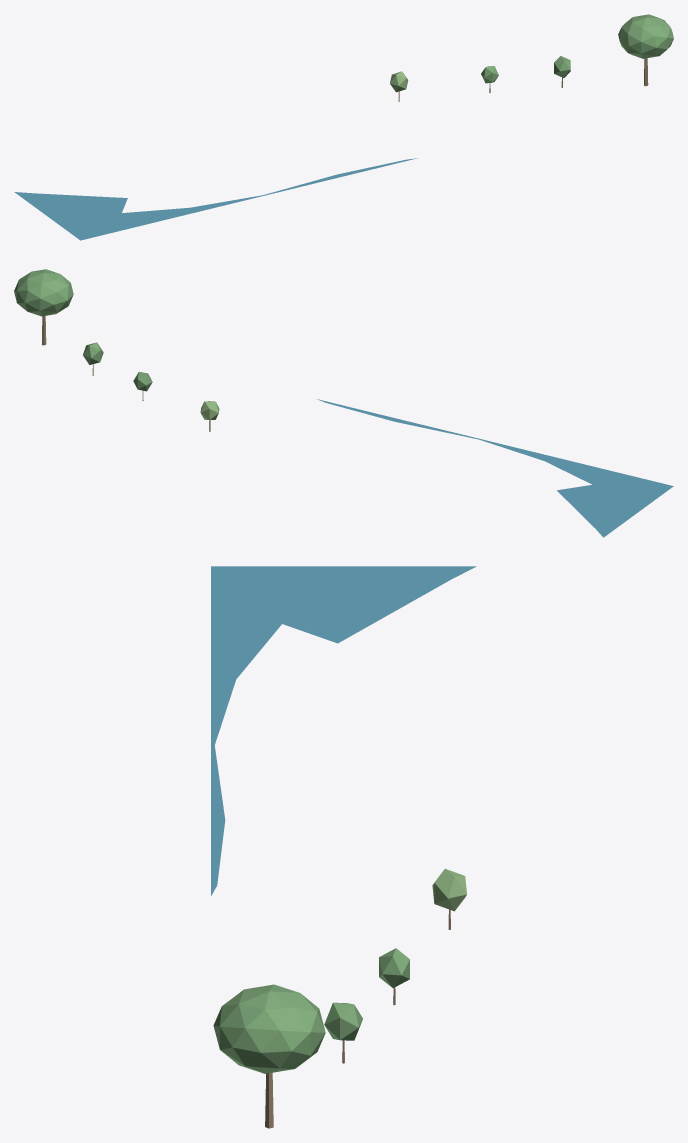
File: nature_0_1.glb
3 renders of one model, top to bottom at view 1: azimuth 30°, elevation 25°; view 2: azimuth 150°, elevation 25°; view 3: azimuth 270°, elevation 25°, orthographic. The views are drawn at different scales.
Visible parts, largest first — view 1: water, foliage_a; view 2: water, foliage_a; view 3: water, foliage_a, foliage_b.
Part boxes in pixels (x1=…): water: x1=14, y1=158, x2=418, y2=240; foliage_a: x1=481, y1=14, x2=673, y2=83; water: x1=317, y1=399, x2=673, y2=537; foliage_a: x1=14, y1=269, x2=152, y2=391; water: x1=211, y1=566, x2=476, y2=895; foliage_a: x1=213, y1=948, x2=409, y2=1073; foliage_b: x1=432, y1=868, x2=466, y2=911.
Size of what is drawn, in the model's own units: 75.12 by 8.39 by 14.32.
